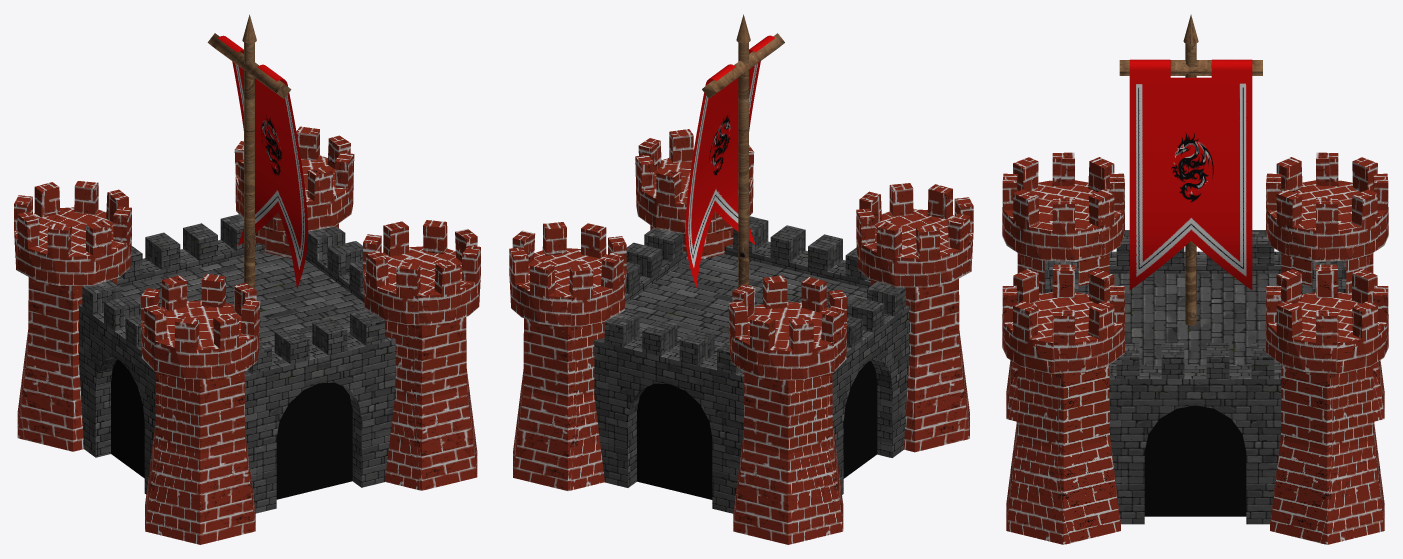
File: castle.gltf
The picture shows the model from 3 angles, left to right: view 1: azimuth 30°, elevation 25°; view 2: azimuth 150°, elevation 25°; view 3: azimuth 270°, elevation 25°; orthographic projection. The views are drawn at different scales.
Visible parts, largest first — view 1: base.001, object_3.009, object_3.010, object_19.001, Plane.005, object_3.001, object_3.011, object_111.000, Plane.006, object_3.004; view 2: base.001, object_3.011, object_3.010, object_19.001, object_3.001, Plane.007, object_3.009, object_111.000, Plane.006, object_3.004; view 3: base.001, object_3.005, object_3.004, object_19.001, Plane.001, object_3.010, object_111.000, object_3.009, object_3.011.
Part boxes in pixels (<box>): base.001: <box>14,126,480,544</box>; object_3.009: <box>244,309,395,513</box>; object_3.010: <box>78,280,155,494</box>; object_19.001: <box>121,252,364,352</box>; Plane.005: <box>276,382,352,499</box>; object_3.001: <box>232,50,308,289</box>; object_3.011: <box>117,214,264,286</box>; object_111.000: <box>207,14,291,288</box>; Plane.006: <box>111,359,144,478</box>; object_3.004: <box>305,226,364,302</box>; base.001: <box>509,129,973,544</box>; object_3.011: <box>594,311,743,513</box>; object_3.010: <box>832,281,909,494</box>; object_19.001: <box>624,254,866,354</box>; object_3.001: <box>685,50,760,287</box>; Plane.007: <box>637,383,712,499</box>; object_3.009: <box>724,216,870,288</box>; object_111.000: <box>702,14,784,287</box>; Plane.006: <box>843,361,877,478</box>; object_3.004: <box>625,228,686,303</box>; base.001: <box>1002,152,1388,544</box>; object_3.005: <box>1129,59,1252,289</box>; object_3.004: <box>1109,343,1281,524</box>; object_19.001: <box>1078,273,1312,364</box>; Plane.001: <box>1144,405,1246,516</box>; object_3.010: <box>1109,230,1281,273</box>; object_111.000: <box>1119,14,1262,325</box>; object_3.009: <box>1044,260,1078,293</box>; object_3.011: <box>1312,260,1346,293</box>.
Size of the model in its own units: 141 by 175 by 137.
5 materials, 4 textured.
